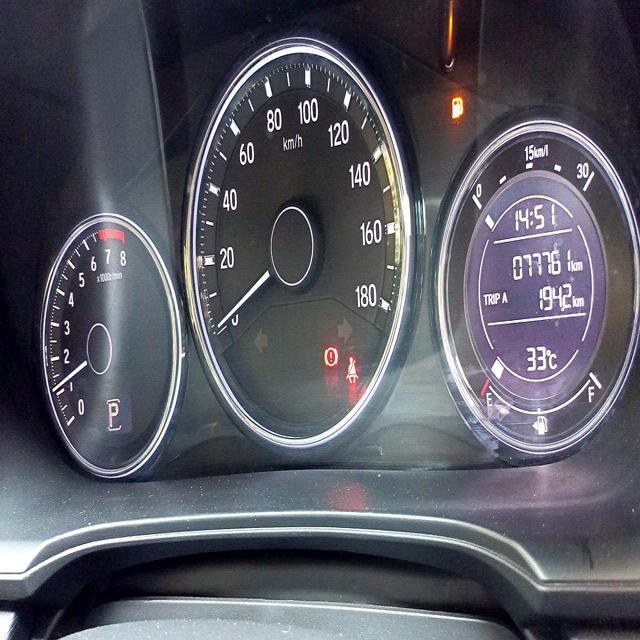odometer: (509, 243, 572, 285)
